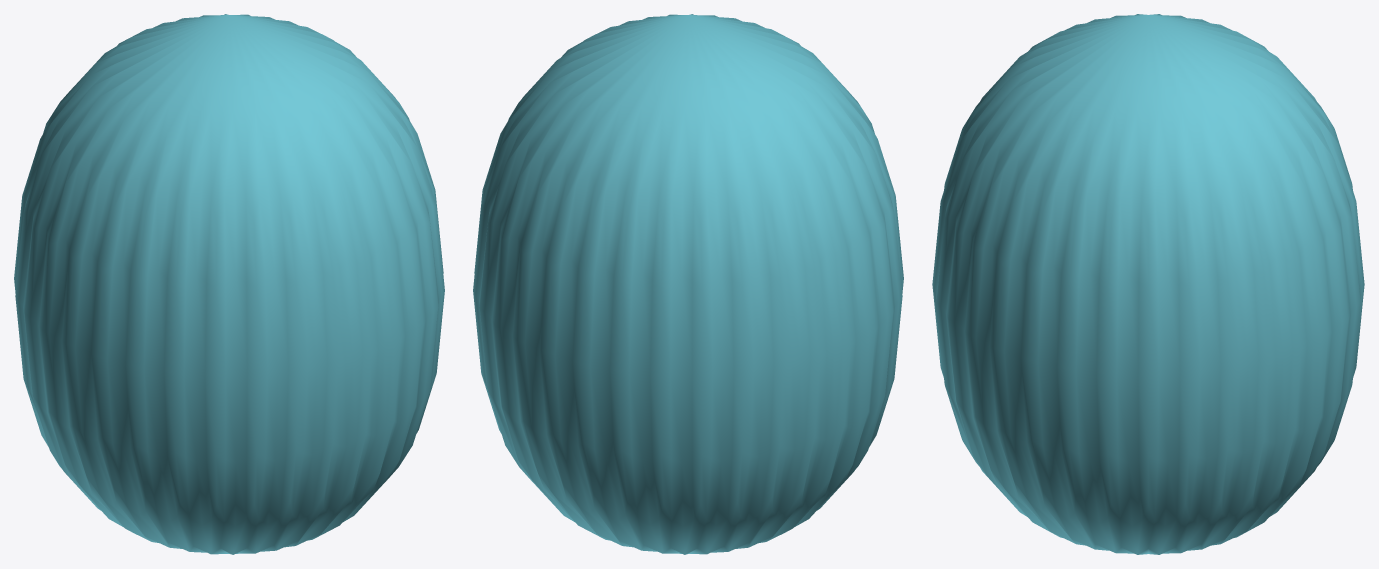
Rendered from outfit_scrubs.glb.
3 renders of one model, left to right at view 1: azimuth 30°, elevation 25°; view 2: azimuth 150°, elevation 25°; view 3: azimuth 270°, elevation 25°, orthographic.
Parts seen in each view (by area): view 1: Cylinder; view 2: Cylinder; view 3: Cylinder.
Boxes of the visible parts, x1,y1,x2,y2 form: Cylinder: [14, 14, 444, 554]; Cylinder: [473, 14, 903, 554]; Cylinder: [932, 14, 1364, 554].
Bounding box in the file's own units: 0.4329 × 0.5958 × 0.4329.
